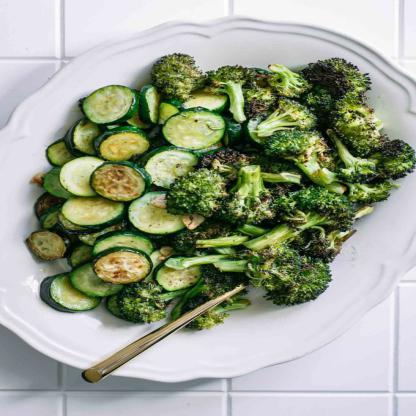broccoli: (26, 50, 416, 330)
